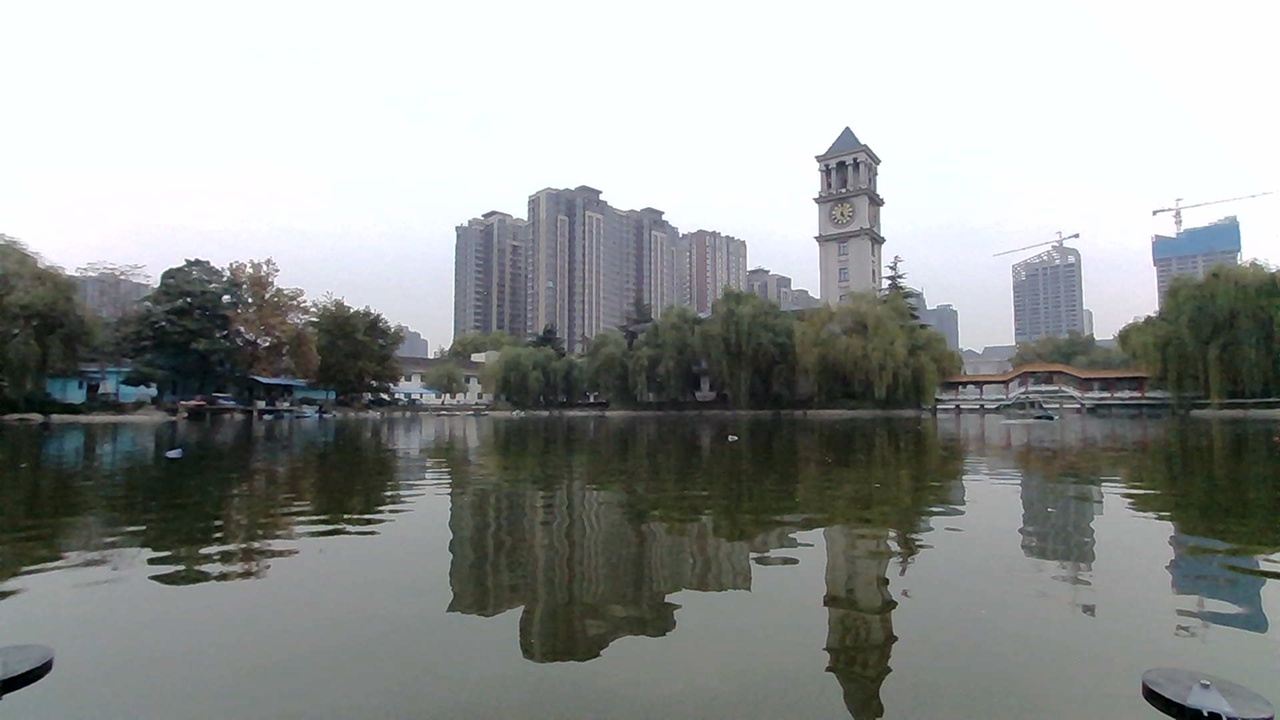bottle: (157, 434, 206, 471), (712, 419, 755, 448)
